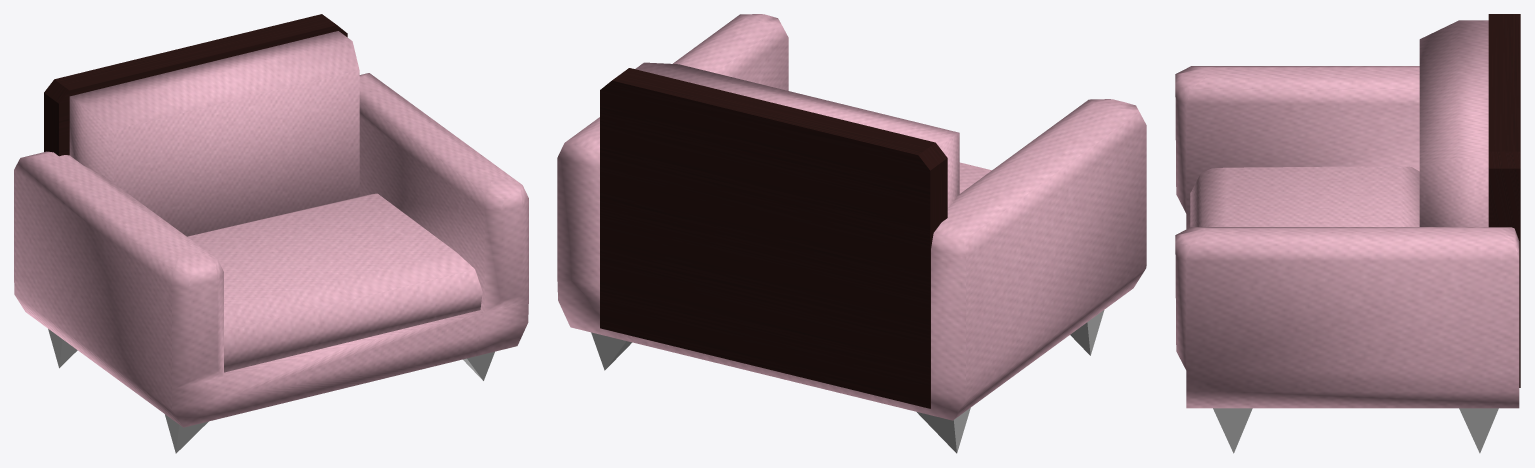
File: Armchair_C_2.FBX
3 views of the same model, side by side, from view 1: azimuth 30°, elevation 25°; view 2: azimuth 150°, elevation 25°; view 3: azimuth 270°, elevation 25° (orthographic). The views are drawn at different scales.
Parts seen in each view (by area): view 1: Flatback_Chair; view 2: Flatback_Chair; view 3: Flatback_Chair.
Boxes of the visible parts, <box> form: Flatback_Chair: <box>14,14,528,453</box>; Flatback_Chair: <box>557,14,1146,453</box>; Flatback_Chair: <box>1175,14,1520,453</box>.
Bounding box in the file's own units: 214 × 157 × 170.
